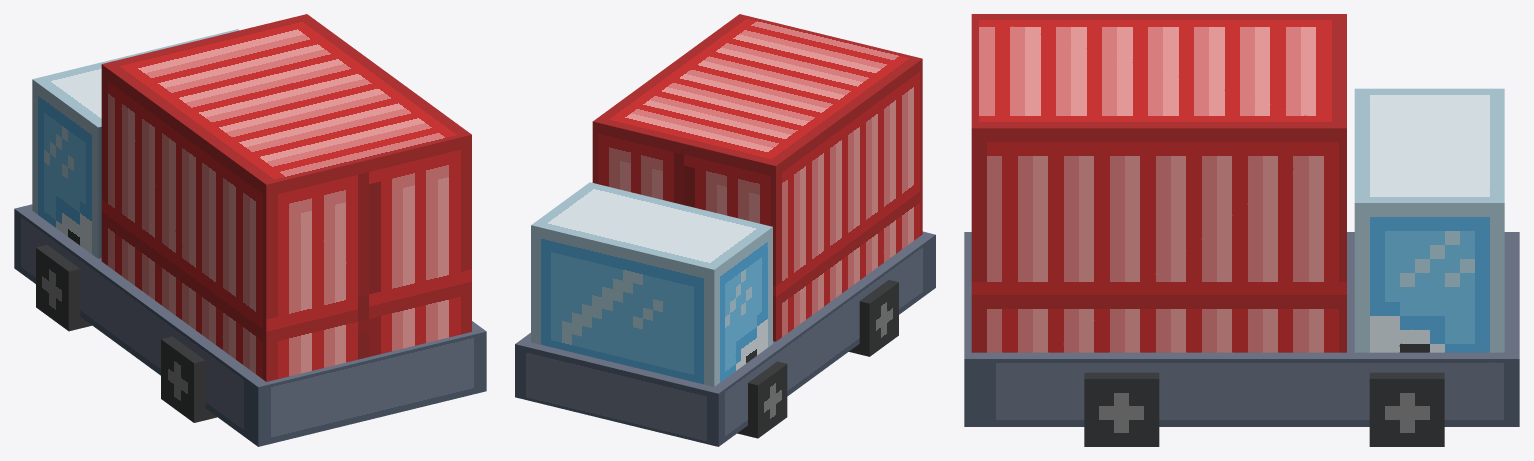
File: Isekai Truck.fbx
3 renders of one model, left to right at view 1: azimuth 30°, elevation 25°; view 2: azimuth 150°, elevation 25°; view 3: azimuth 270°, elevation 25°, orthographic. The views are drawn at different scales.
Visible parts, largest first — view 1: Cargo, Bumper, Cockpit, cube_1, cube; view 2: Cargo, Cockpit, Bumper, cube, cube_1; view 3: Cargo, Cockpit, Bumper, cube_2, cube_3.
Part boxes in pixels (x1=…): Cargo: x1=101, y1=14, x2=471, y2=381; Bumper: x1=14, y1=204, x2=486, y2=446; Cockpit: x1=32, y1=29, x2=239, y2=258; cube_1: x1=161, y1=336, x2=217, y2=422; cube: x1=36, y1=245, x2=91, y2=331; Cargo: x1=592, y1=14, x2=922, y2=341; Cockpit: x1=531, y1=182, x2=772, y2=386; Bumper: x1=515, y1=231, x2=935, y2=446; cube: x1=737, y1=361, x2=787, y2=438; cube_1: x1=849, y1=280, x2=898, y2=356; Cargo: x1=971, y1=14, x2=1346, y2=352; Cockpit: x1=1354, y1=88, x2=1504, y2=352; Bumper: x1=964, y1=232, x2=1519, y2=426; cube_2: x1=1369, y1=372, x2=1444, y2=446; cube_3: x1=1084, y1=372, x2=1159, y2=446.
Size of the model in its own units: 138 by 141 by 231.
Materials: 3 (3 with a texture image).
